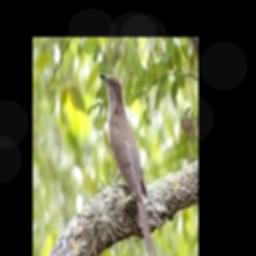Cuckoo: (99, 72, 156, 256)
